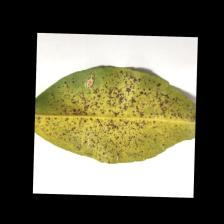canker: (77, 76, 182, 151)
